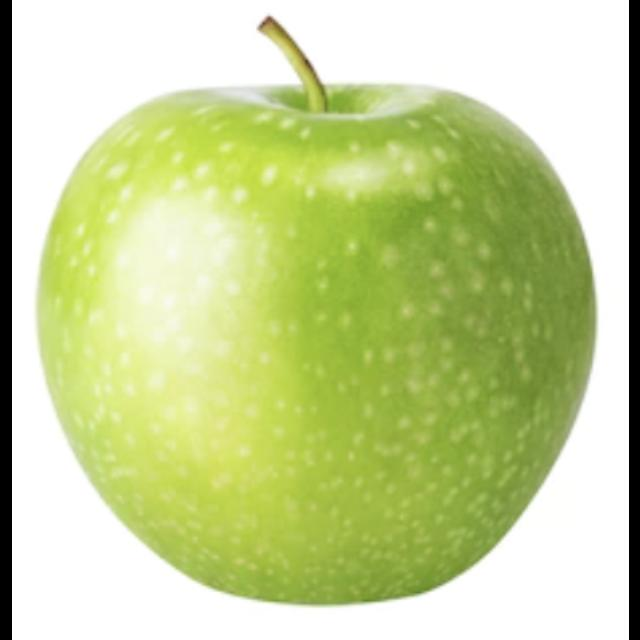Apel Segar: (54, 47, 608, 609)
